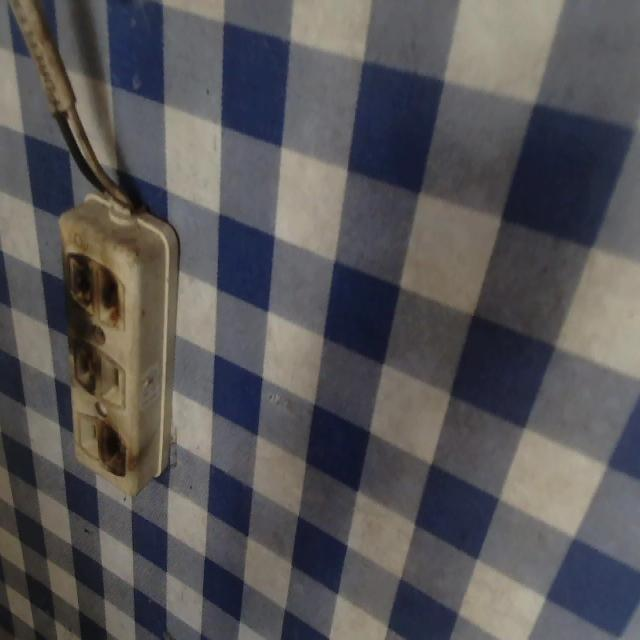-: (61, 245, 125, 334), (97, 420, 128, 479), (70, 336, 99, 391)
